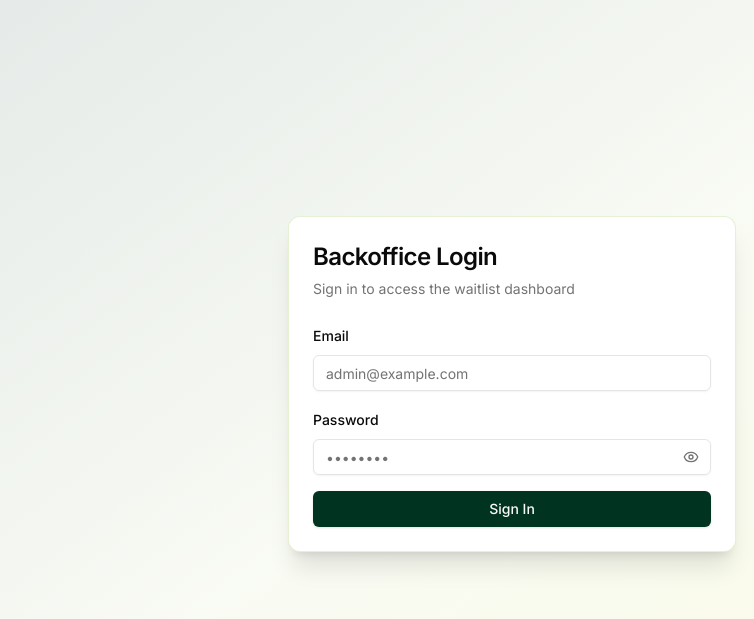
Test case: LoginForm › displays error message with invalid credentials
This screenshot has width=754, height=619.
Type "wrong@example.com" into the field labelled "Email" at (512, 373), box [313,355,711,391]
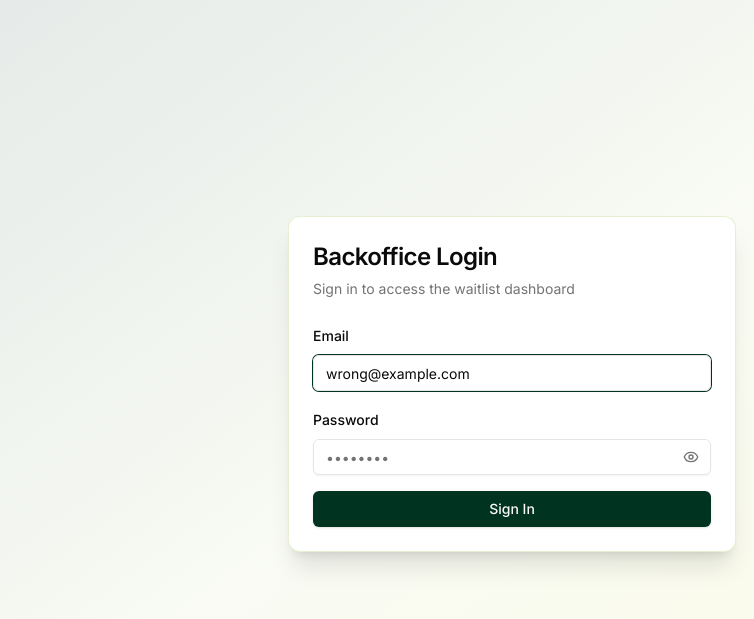
Type "wrongpassword" into the password field labelled "Password" at (512, 457), box [313,439,711,475]
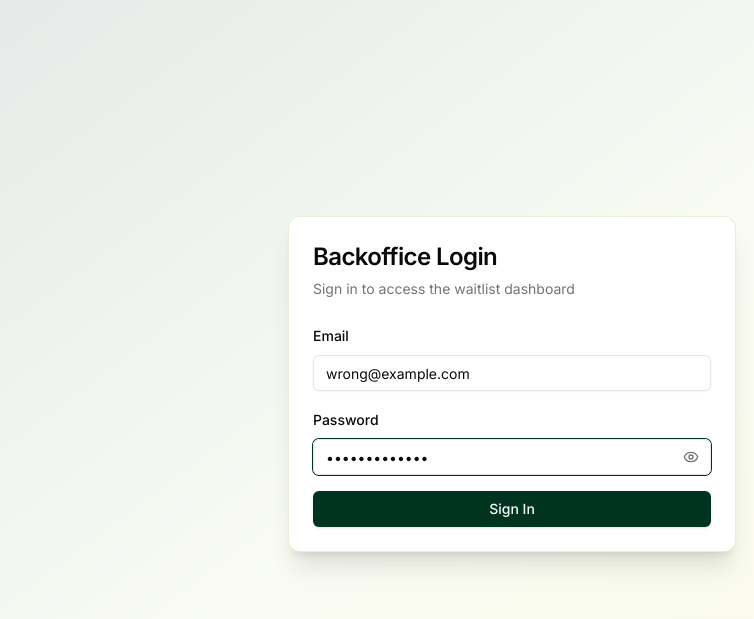
Click the button "Sign In" at (512, 509), box [313,491,711,527]
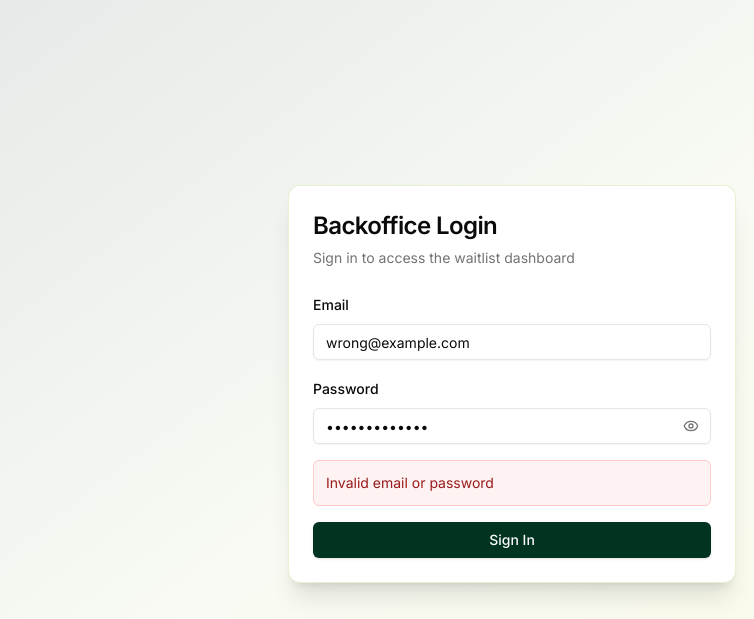
Check: the text "Invalid email or password" is shown, box [313,460,711,506]
